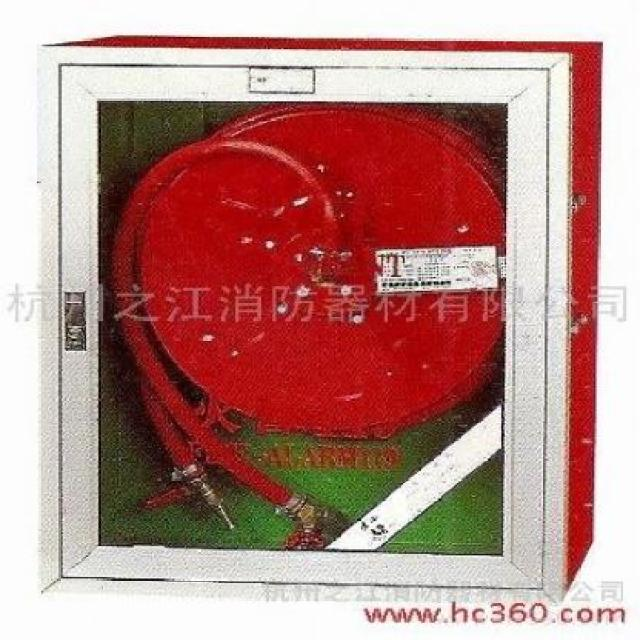firehydrant: (31, 29, 604, 604)
